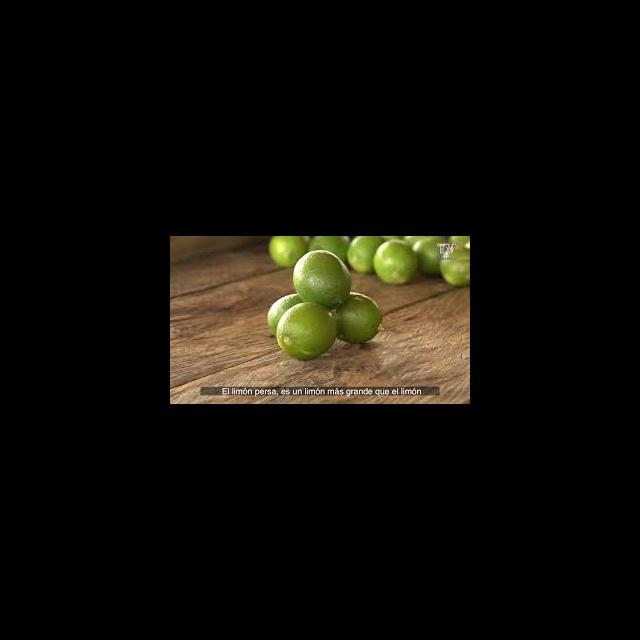lime: (292, 250, 352, 311), (275, 302, 337, 360), (335, 292, 383, 344), (373, 241, 418, 285), (347, 236, 387, 275), (268, 236, 308, 269), (412, 237, 443, 277)
